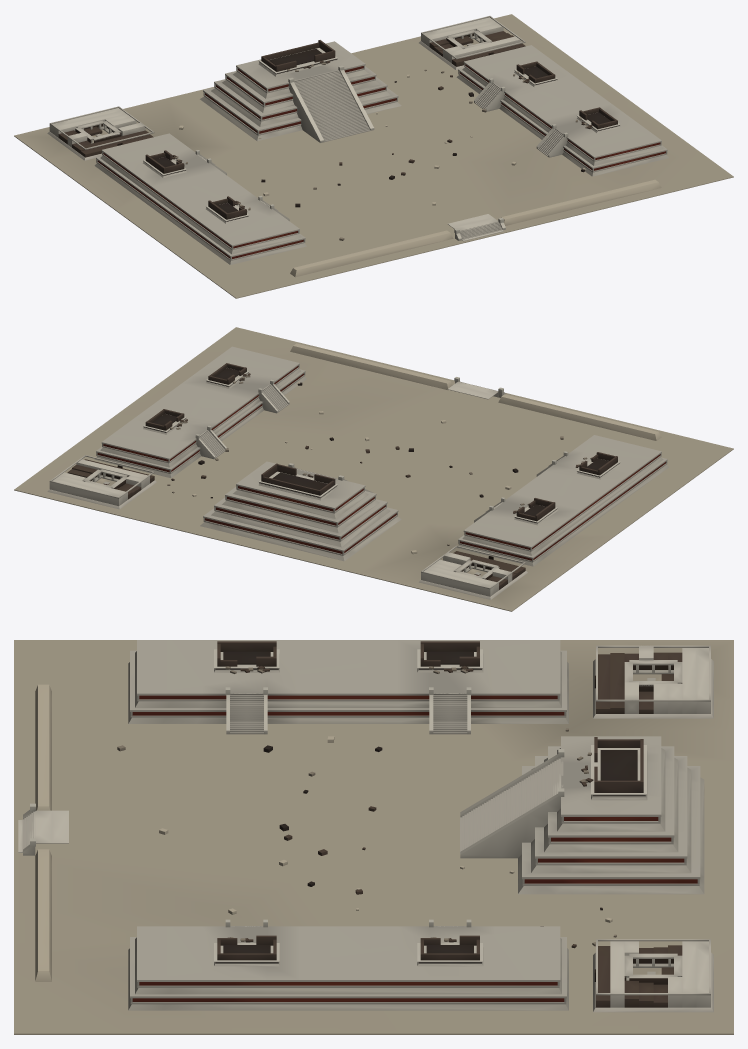
The model's file is plaza-of-the-columns-650.glb.
3 renders of one model, top to bottom at view 1: azimuth 30°, elevation 25°; view 2: azimuth 150°, elevation 25°; view 3: azimuth 270°, elevation 25°, orthographic. The views are drawn at different scales.
Parts seen in each view (by area): view 1: p0_plaza, p1_stage1, p2_debris; view 2: p0_plaza, p1_stage1, p2_debris; view 3: p0_plaza, p1_stage1, p2_debris.
Boxes of the visible parts, x1,y1,x2,y2 form: p0_plaza: (14,14,733,298); p1_stage1: (94,40,668,277); p2_debris: (47,16,620,240); p0_plaza: (14,327,733,611); p1_stage1: (94,343,668,566); p2_debris: (47,363,620,599); p0_plaza: (14,640,733,1034); p1_stage1: (18,640,704,1010); p2_debris: (117,641,713,1012).
Size of the model in its own units: 220 by 20.68 by 170.
